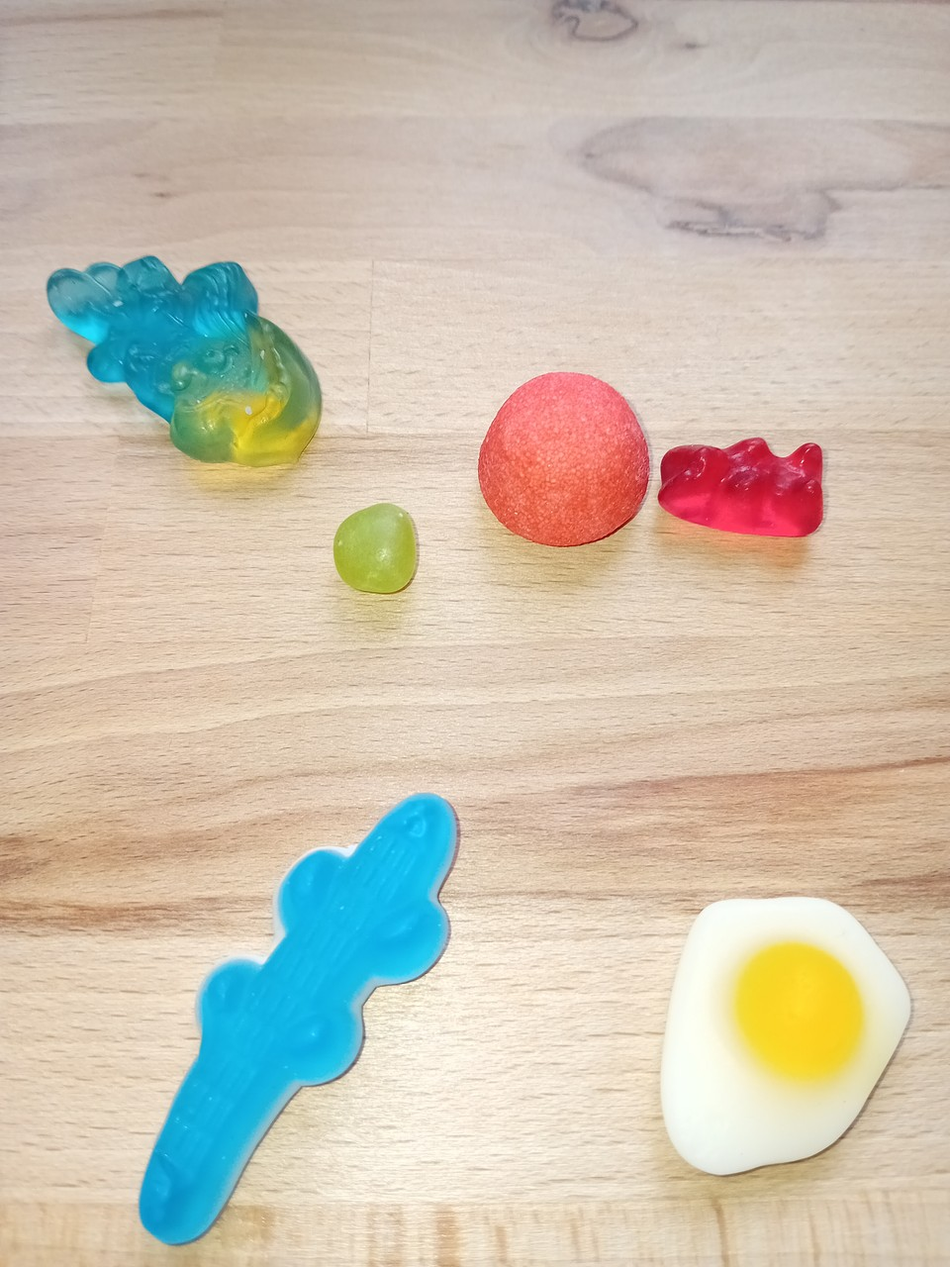crocodile_bleu: (131, 790, 480, 1254)
dragibus_vert: (324, 499, 428, 601)
oeuf_oeuf: (644, 893, 918, 1184)
ourson_rouge: (655, 430, 829, 542)
schtroumpf_bleu-jaune: (40, 252, 327, 477)
tagada_fraise: (473, 362, 655, 558)
